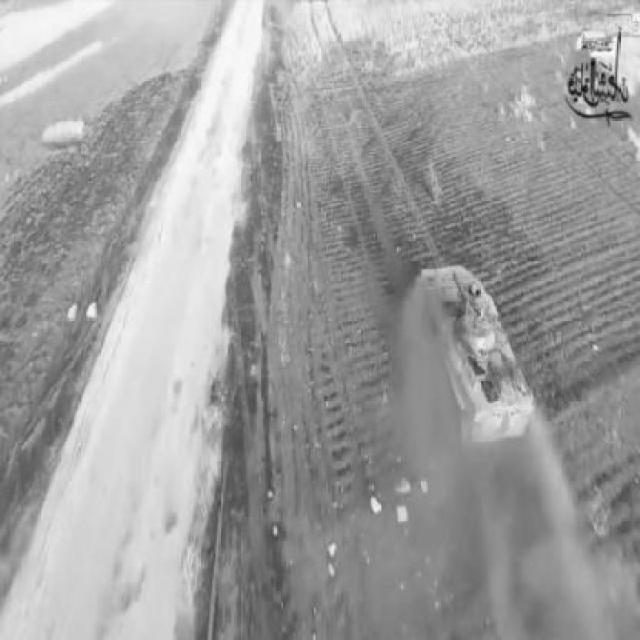Vehicle: (418, 263, 536, 442)
